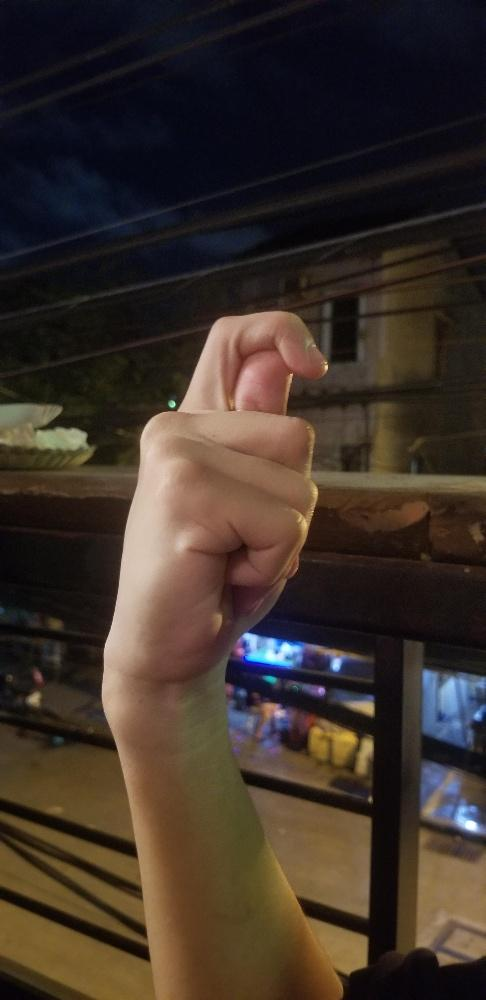t: (104, 305, 332, 692)
